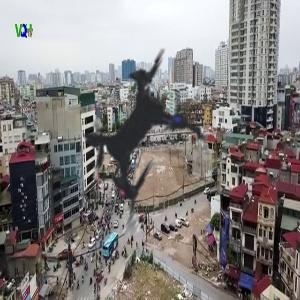drone: (2, 1, 280, 279)
